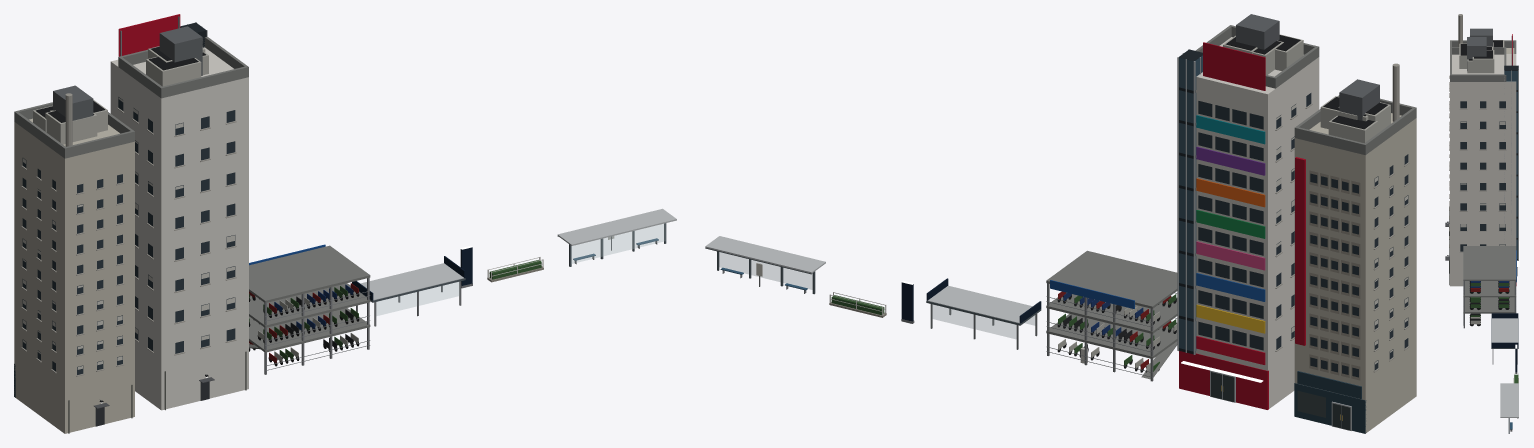
Rendered from kitacity.glb.
3 views of the same model, side by side, from view 1: azimuth 30°, elevation 25°; view 2: azimuth 150°, elevation 25°; view 3: azimuth 270°, elevation 25° (orthographic). The views are drawn at different scales.
Parts seen in each view (by area): view 1: kitacity_karaoke_body, kitacity_capsule_body, kitacity_bikepark_body, kitacity_entrance_body, kitacity_busbay_body, kitacity_median_body; view 2: kitacity_capsule_body, kitacity_karaoke_body, kitacity_bikepark_body, kitacity_karaoke_signs, kitacity_entrance_body, kitacity_busbay_body, kitacity_median_body; view 3: kitacity_karaoke_body, kitacity_bikepark_body, kitacity_entrance_body, kitacity_capsule_body, kitacity_busbay_body.
Boxes of the visible parts, box(x1,y1,x2,y2) form: kitacity_karaoke_body: box(110, 14, 248, 410); kitacity_capsule_body: box(14, 85, 134, 433); kitacity_bikepark_body: box(249, 244, 370, 374); kitacity_entrance_body: box(352, 256, 465, 326); kitacity_busbay_body: box(557, 208, 676, 266); kitacity_median_body: box(487, 257, 543, 282); kitacity_capsule_body: box(1294, 63, 1416, 433); kitacity_karaoke_body: box(1177, 14, 1319, 409); kitacity_bikepark_body: box(1046, 250, 1177, 381); kitacity_karaoke_signs: box(1196, 115, 1264, 364); kitacity_entrance_body: box(926, 278, 1041, 349); kitacity_busbay_body: box(705, 236, 825, 294); kitacity_median_body: box(829, 292, 886, 317); kitacity_karaoke_body: box(1445, 34, 1519, 286); kitacity_bikepark_body: box(1463, 246, 1516, 328); kitacity_entrance_body: box(1491, 313, 1518, 364); kitacity_capsule_body: box(1445, 14, 1516, 235); kitacity_busbay_body: box(1500, 383, 1518, 433).
Bounding box in the file's own units: 74.32 × 38.21 × 11.2.
